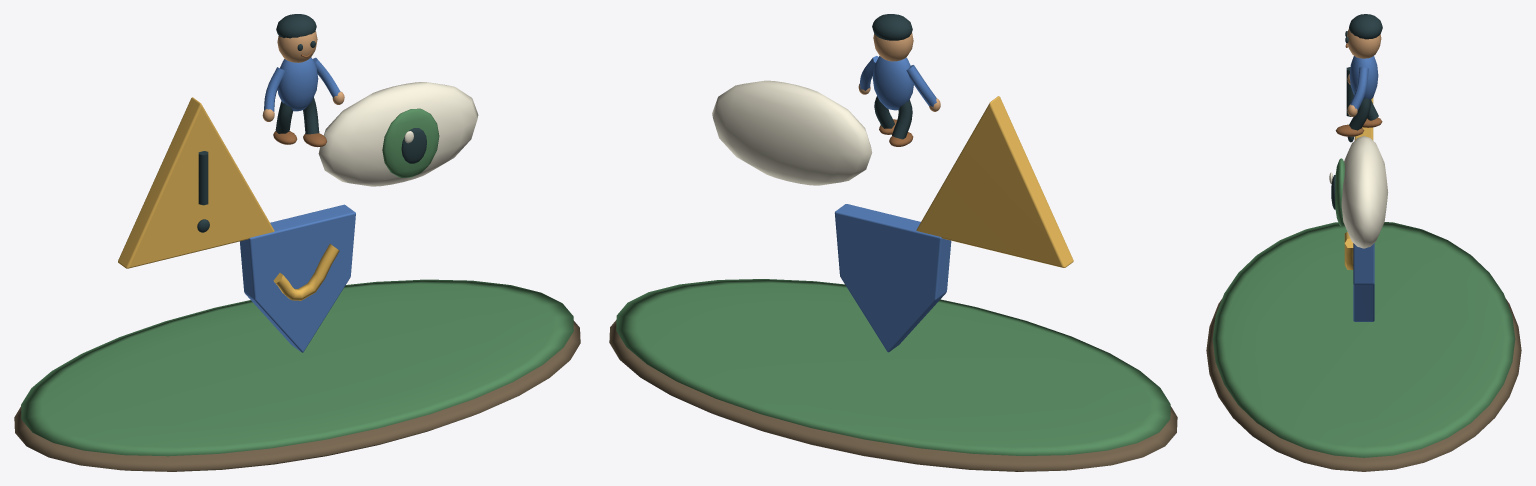
Rendered from complete-second-alert-investigation.glb.
The picture shows the model from 3 angles, left to right: view 1: azimuth 30°, elevation 25°; view 2: azimuth 150°, elevation 25°; view 3: azimuth 270°, elevation 25°; orthographic projection. The views are drawn at different scales.
Parts seen in each view (by area): view 1: complete-second-alert-investigation_surface_01, complete-second-alert-investigation_surface_02, complete-second-alert-investigation_surface_05, complete-second-alert-investigation_surface_00, complete-second-alert-investigation_surface_04, complete-second-alert-investigation_surface_03, complete-second-alert-investigation_surface_06; view 2: complete-second-alert-investigation_surface_01, complete-second-alert-investigation_surface_05, complete-second-alert-investigation_surface_02, complete-second-alert-investigation_surface_04, complete-second-alert-investigation_surface_00, complete-second-alert-investigation_surface_03, complete-second-alert-investigation_surface_06; view 3: complete-second-alert-investigation_surface_01, complete-second-alert-investigation_surface_00, complete-second-alert-investigation_surface_04, complete-second-alert-investigation_surface_05, complete-second-alert-investigation_surface_03, complete-second-alert-investigation_surface_06, complete-second-alert-investigation_surface_02, complete-second-alert-investigation_surface_07.
Part boxes in pixels (x1,y1,x2,y2): complete-second-alert-investigation_surface_01: (21,108,573,456); complete-second-alert-investigation_surface_02: (118,97,339,300); complete-second-alert-investigation_surface_05: (240,57,355,352); complete-second-alert-investigation_surface_00: (14,320,580,471); complete-second-alert-investigation_surface_04: (318,82,478,186); complete-second-alert-investigation_surface_03: (197,14,426,232); complete-second-alert-investigation_surface_06: (262,31,344,121); complete-second-alert-investigation_surface_01: (616,279,1170,455); complete-second-alert-investigation_surface_05: (834,56,951,352); complete-second-alert-investigation_surface_02: (916,96,1073,267); complete-second-alert-investigation_surface_04: (712,80,872,185); complete-second-alert-investigation_surface_00: (609,320,1177,471); complete-second-alert-investigation_surface_03: (872,14,912,139); complete-second-alert-investigation_surface_06: (858,33,940,111); complete-second-alert-investigation_surface_01: (1212,158,1515,457); complete-second-alert-investigation_surface_00: (1206,299,1521,471); complete-second-alert-investigation_surface_04: (1329,136,1388,248); complete-second-alert-investigation_surface_05: (1349,56,1378,321); complete-second-alert-investigation_surface_03: (1331,14,1382,209); complete-second-alert-investigation_surface_06: (1347,28,1381,116); complete-second-alert-investigation_surface_02: (1344,98,1373,269); complete-second-alert-investigation_surface_07: (1335,43,1382,136).
Bounding box in the file's own units: 4.56 × 3.05 × 2.5.
